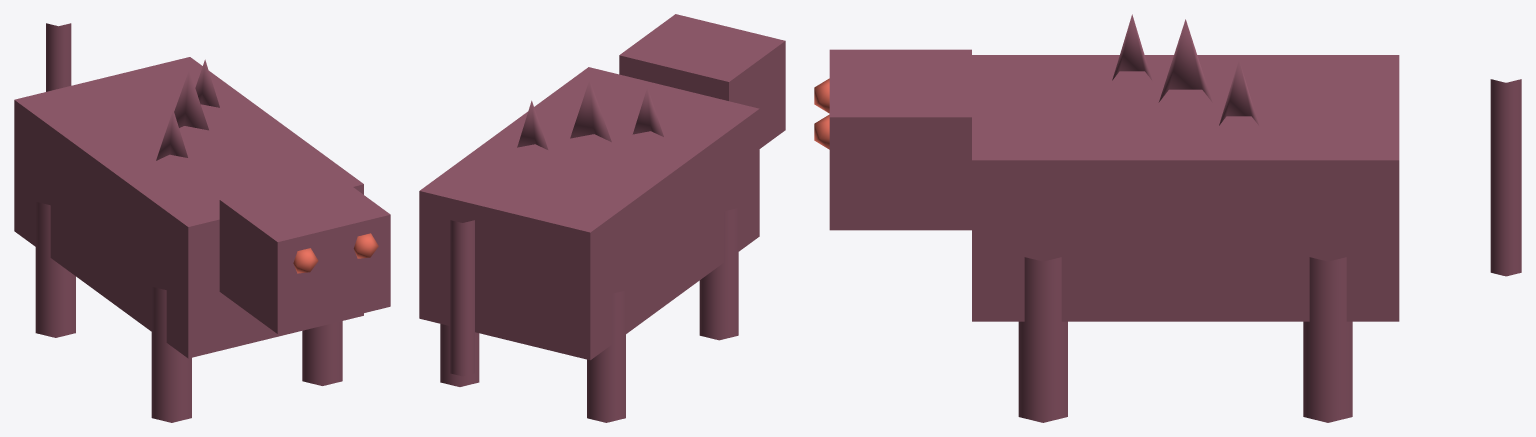
Rendered from rot_stalker.glb.
3 views of the same model, side by side, from view 1: azimuth 30°, elevation 25°; view 2: azimuth 150°, elevation 25°; view 3: azimuth 270°, elevation 25° (orthographic). The views are drawn at different scales.
Visible parts, largest first — view 1: RotStalker; view 2: RotStalker; view 3: RotStalker.
Part boxes in pixels (x1,y1,x2,y2): RotStalker: (14,23,390,422); RotStalker: (419,14,785,422); RotStalker: (814,14,1521,422).
Bounding box in the file's own units: 0.76 × 1.08 × 1.99.
